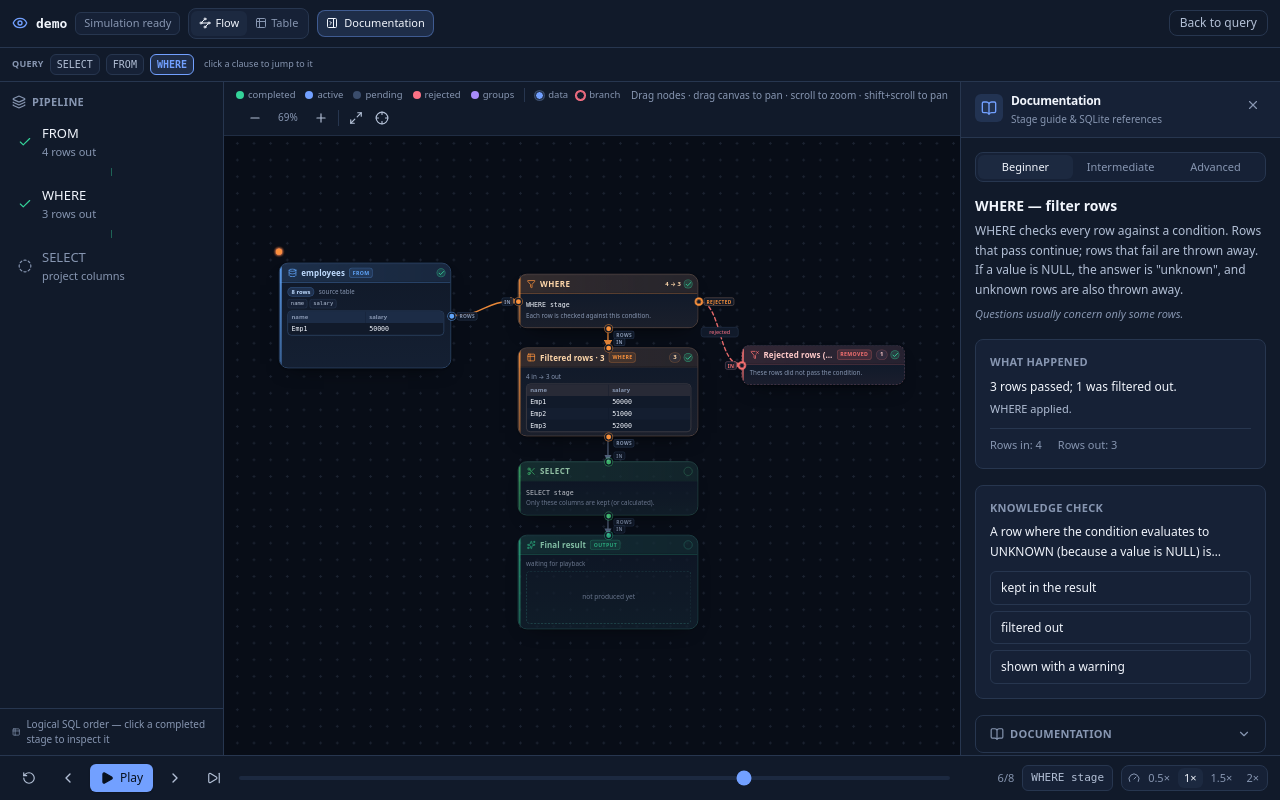
Test: Flow View behavior › clicking a data node opens the inspector with the real snapshot rows
The width and height of the screenshot is (1280, 800).
Later steps or results of the test are not shown.
Click the button with aria-label "Intermediate result after WHERE" at (608, 391), box [518,347,698,436]
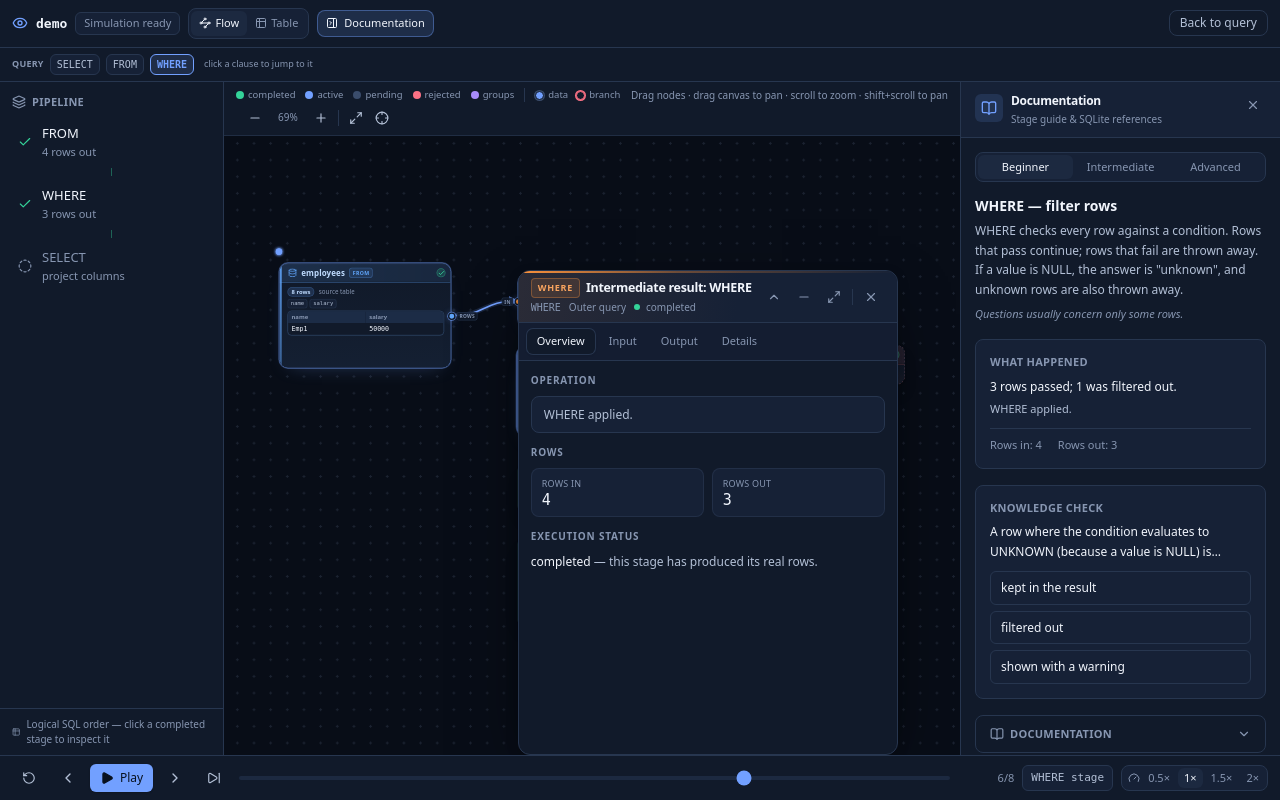
Expected: the text "Emp1" is shown, [288,322,366,334]
Expected: the dialog named "Node inspector" is shown, [518,270,898,755]
